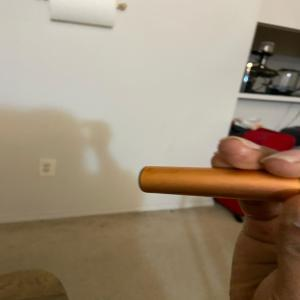Golden-E-Ciggirate: (129, 157, 300, 207)
